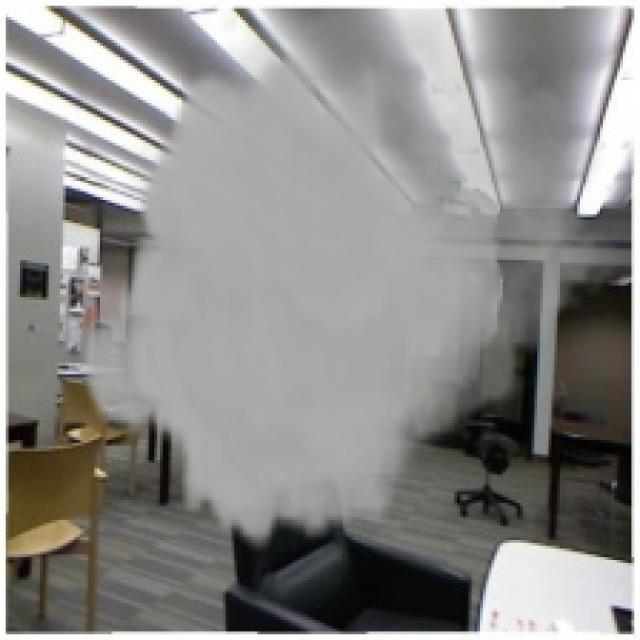Smoke: (77, 9, 620, 552)
